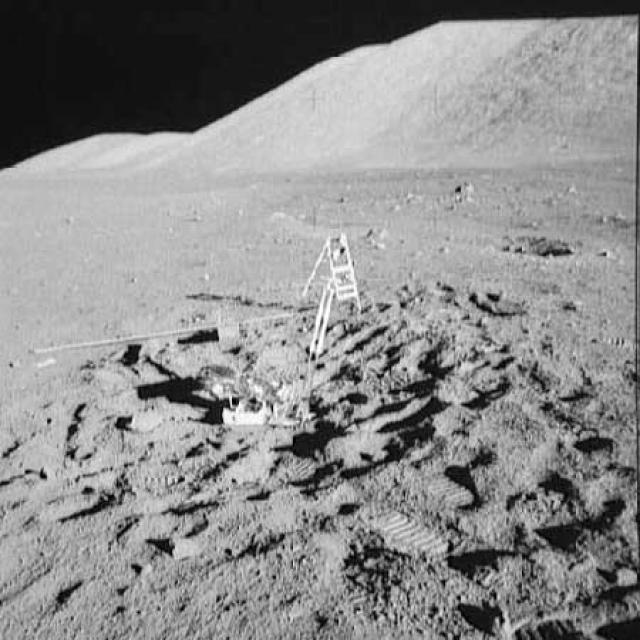artifact: (291, 219, 370, 358), (192, 358, 309, 434)
crater: (428, 221, 576, 265)
